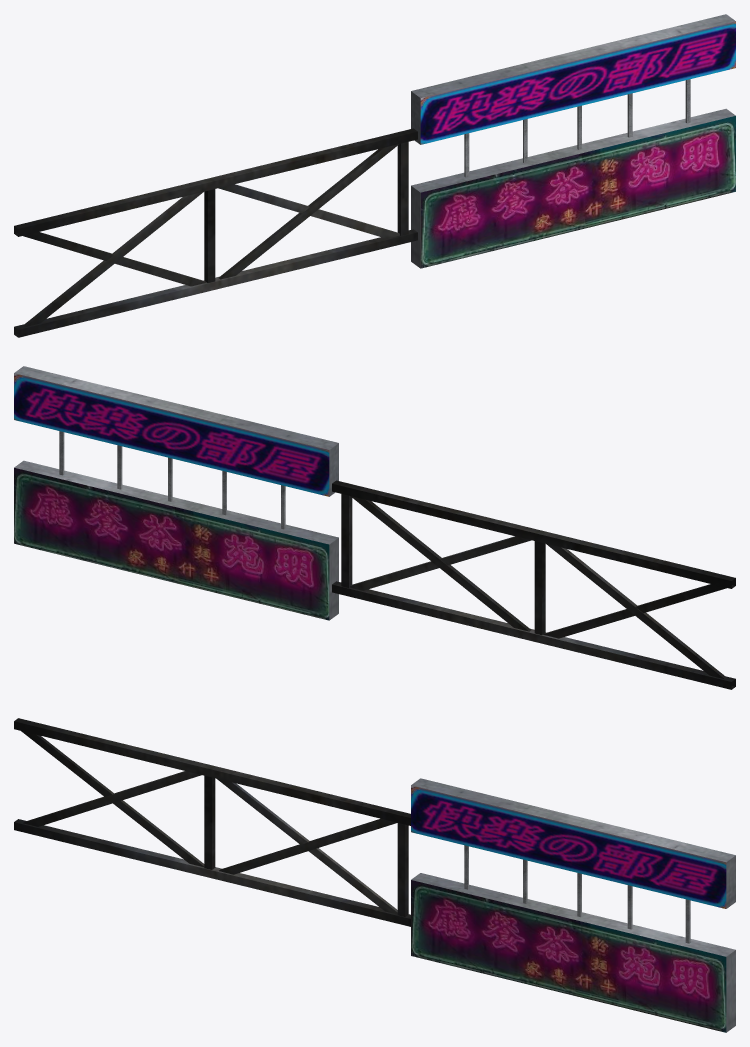
File: SIN0210001.fbx
3 renders of one model, top to bottom at view 1: azimuth 30°, elevation 25°; view 2: azimuth 150°, elevation 25°; view 3: azimuth 330°, elevation 25°, orthographic.
Visible parts, largest first — view 1: smSIN0210001; view 2: smSIN0210001; view 3: smSIN0210001.
Part boxes in pixels (left/top/right/bottom): smSIN0210001: left=14, top=14, right=735, bottom=337; smSIN0210001: left=14, top=366, right=735, bottom=689; smSIN0210001: left=14, top=718, right=735, bottom=1032.
Size of the model in its own units: 453 by 103 by 10.62.
1 material, 1 textured.
